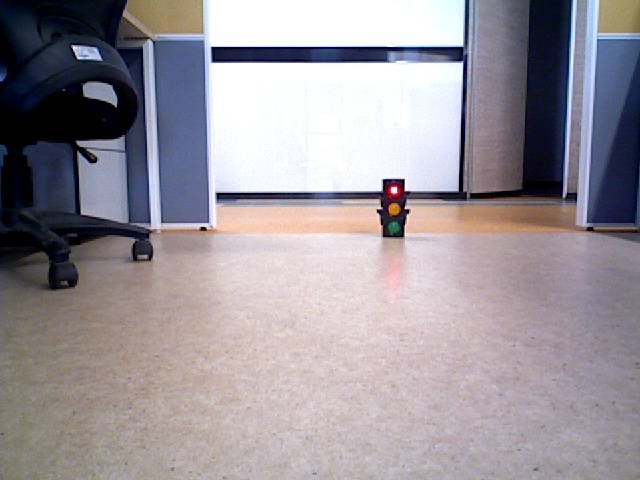red: (383, 178, 404, 233)
